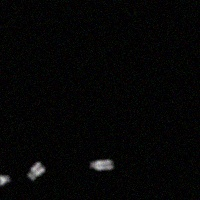chromosome: (27, 160, 45, 181), (89, 160, 115, 170), (0, 173, 11, 186)
